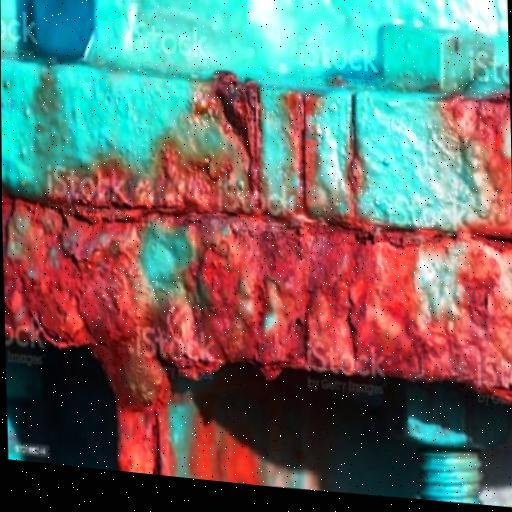corrosion: (4, 181, 512, 413), (438, 80, 512, 205)
crack: (290, 85, 330, 215), (341, 90, 373, 229), (143, 404, 172, 476)
